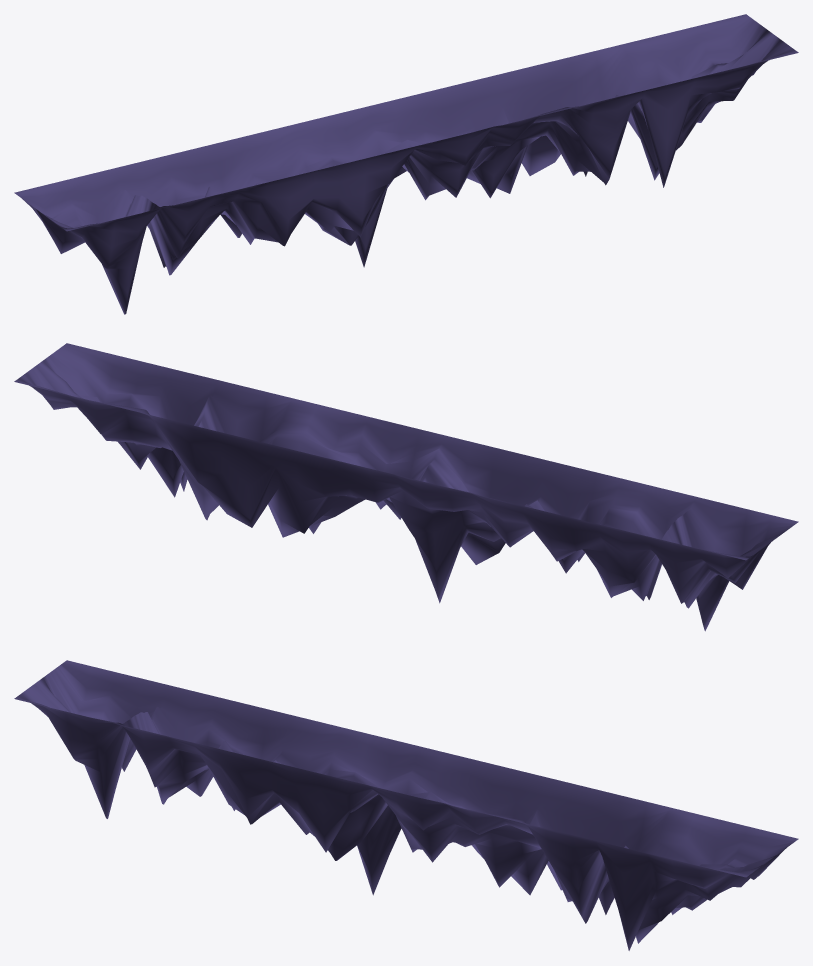
File: Terain4.fbx
3 views of the same model, one above another, from view 1: azimuth 30°, elevation 25°; view 2: azimuth 150°, elevation 25°; view 3: azimuth 330°, elevation 25° (orthographic).
Visible parts, largest first — view 1: Terain 1.001; view 2: Terain 1.001; view 3: Terain 1.001.
Boxes of the visible parts, x1,y1,x2,y2 form: Terain 1.001: (14, 14, 798, 314); Terain 1.001: (14, 343, 798, 631); Terain 1.001: (14, 660, 798, 950).
Size of the model in its own units: 2000 by 364 by 250.
